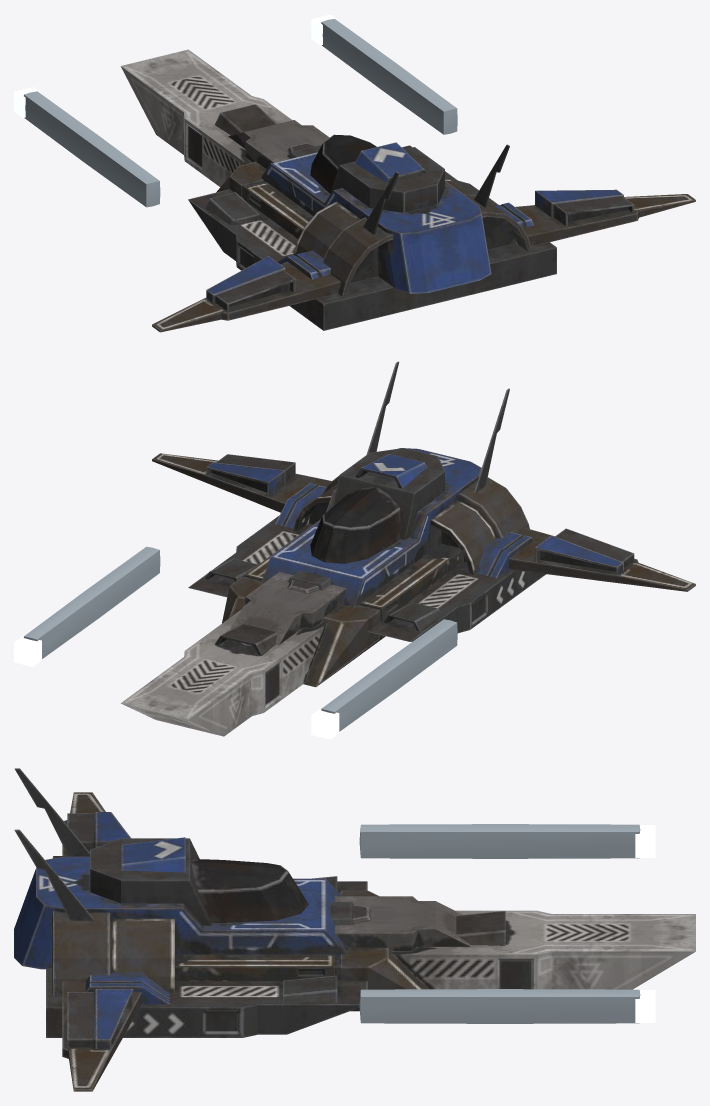
Rendered from ally_wing.glb.
3 renders of one model, top to bottom at view 1: azimuth 30°, elevation 25°; view 2: azimuth 150°, elevation 25°; view 3: azimuth 270°, elevation 25°, orthographic. The views are drawn at different scales.
Parts seen in each view (by area): view 1: ally_wing; view 2: ally_wing; view 3: ally_wing.
Boxes of the visible parts, x1,y1,x2,y2 form: ally_wing: [14, 14, 695, 332]; ally_wing: [14, 361, 695, 739]; ally_wing: [14, 768, 695, 1091].
Size of the model in its own units: 1.55 by 0.4459 by 1.5.
3 materials, 1 textured.
